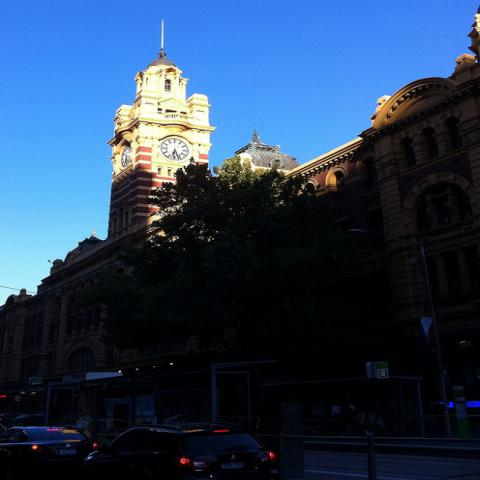car: (81, 422, 283, 480), (1, 425, 100, 479)
